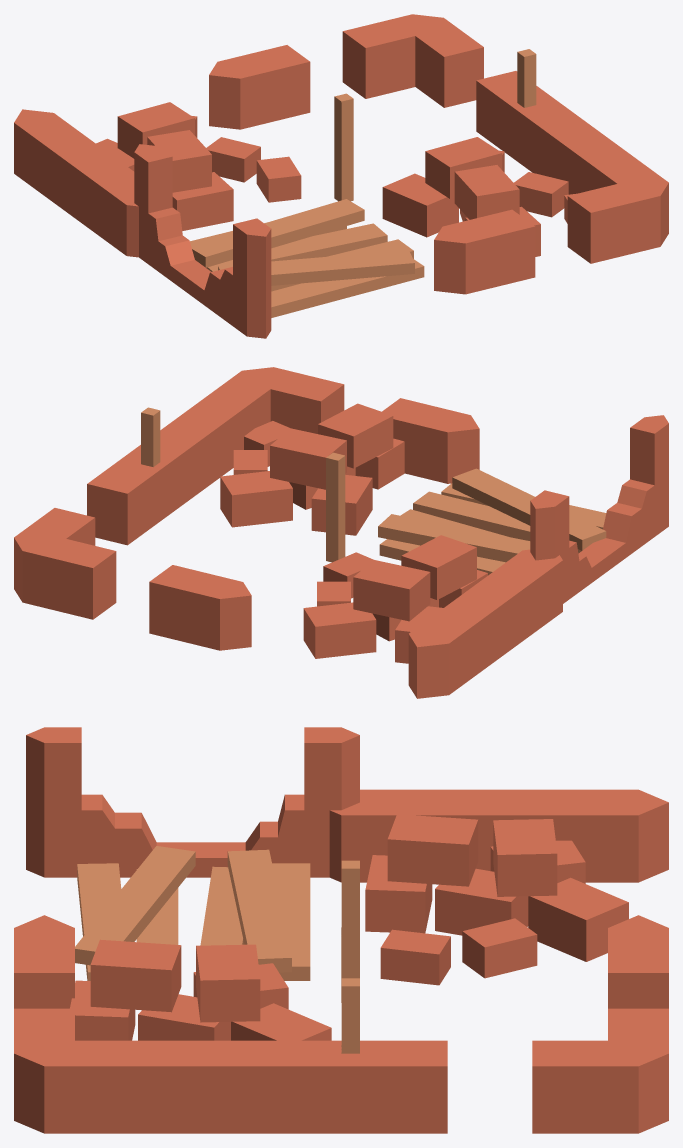
The model's file is Casa13Rota.FBX.
The picture shows the model from 3 angles, top to bottom: view 1: azimuth 30°, elevation 25°; view 2: azimuth 150°, elevation 25°; view 3: azimuth 270°, elevation 25°; orthographic projection. The views are drawn at different scales.
Visible parts, largest first — view 1: wall_border_298; view 2: wall_border_298; view 3: wall_border_298.
Part boxes in pixels (left/top/right/bottom): wall_border_298: left=14, top=14, right=668, bottom=338; wall_border_298: left=14, top=367, right=668, bottom=698; wall_border_298: left=14, top=727, right=668, bottom=1133.
Size of the model in its own units: 2205 by 500 by 2205.
